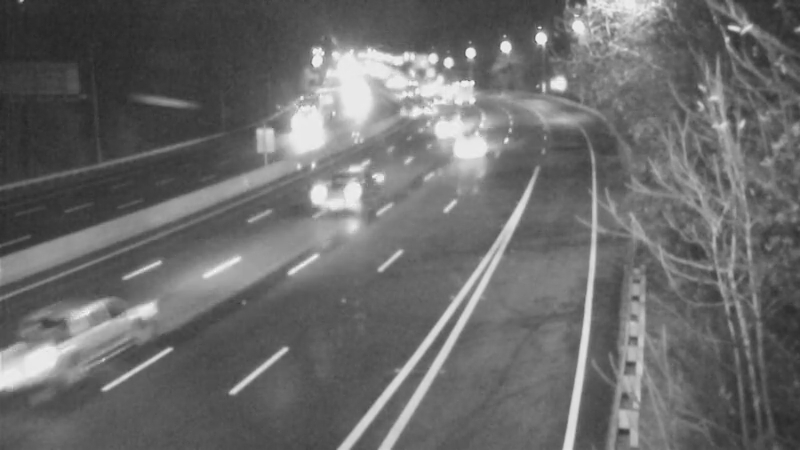vehicle: (1, 305, 98, 415), (423, 113, 503, 193), (301, 160, 381, 240), (433, 63, 483, 113), (416, 75, 466, 125), (396, 80, 446, 130), (424, 102, 474, 152), (278, 106, 328, 156)
